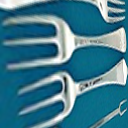Fork: (2, 14, 127, 64)
